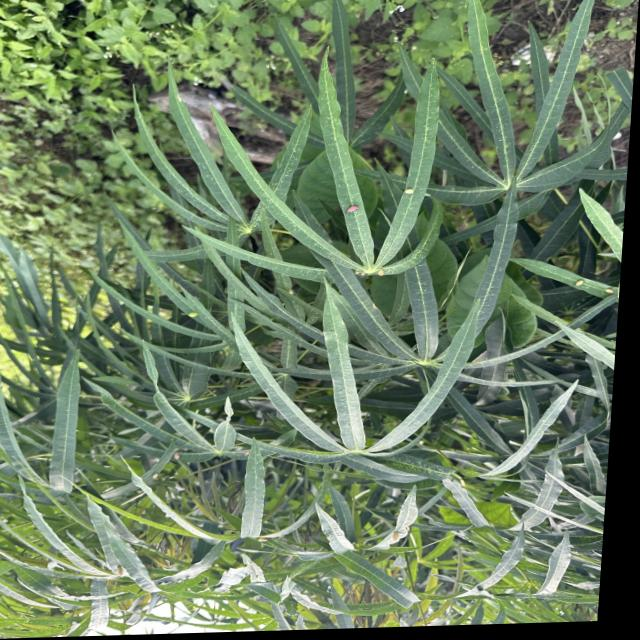Maleza: (0, 0, 273, 78)
Mosca: (350, 263, 388, 283), (340, 197, 360, 219), (397, 185, 417, 202), (183, 306, 203, 323), (386, 528, 405, 544), (114, 560, 126, 581)
